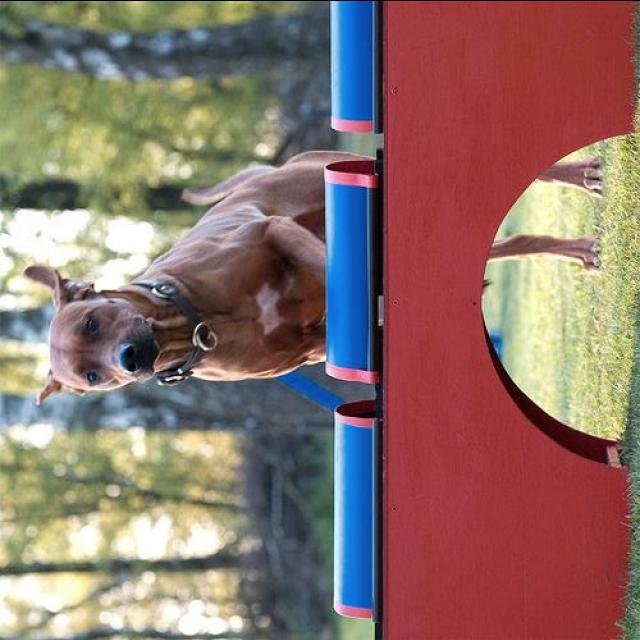rhodesian_ridgeback: (23, 150, 605, 404)
